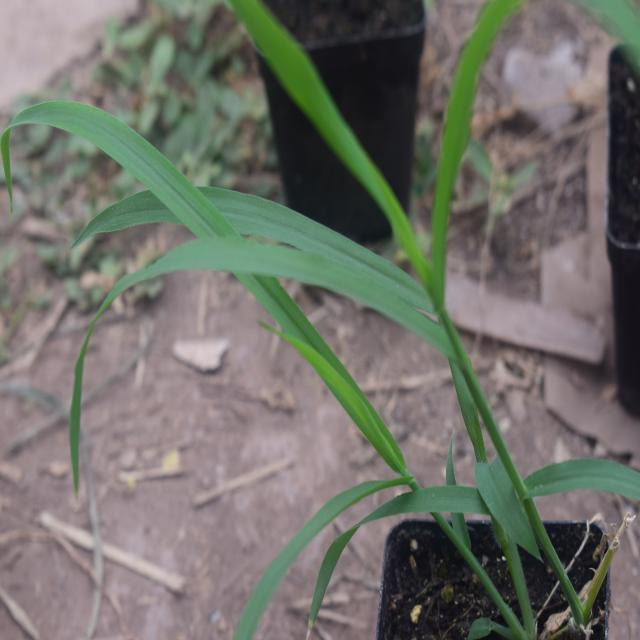crabgrass: (55, 47, 502, 558)
